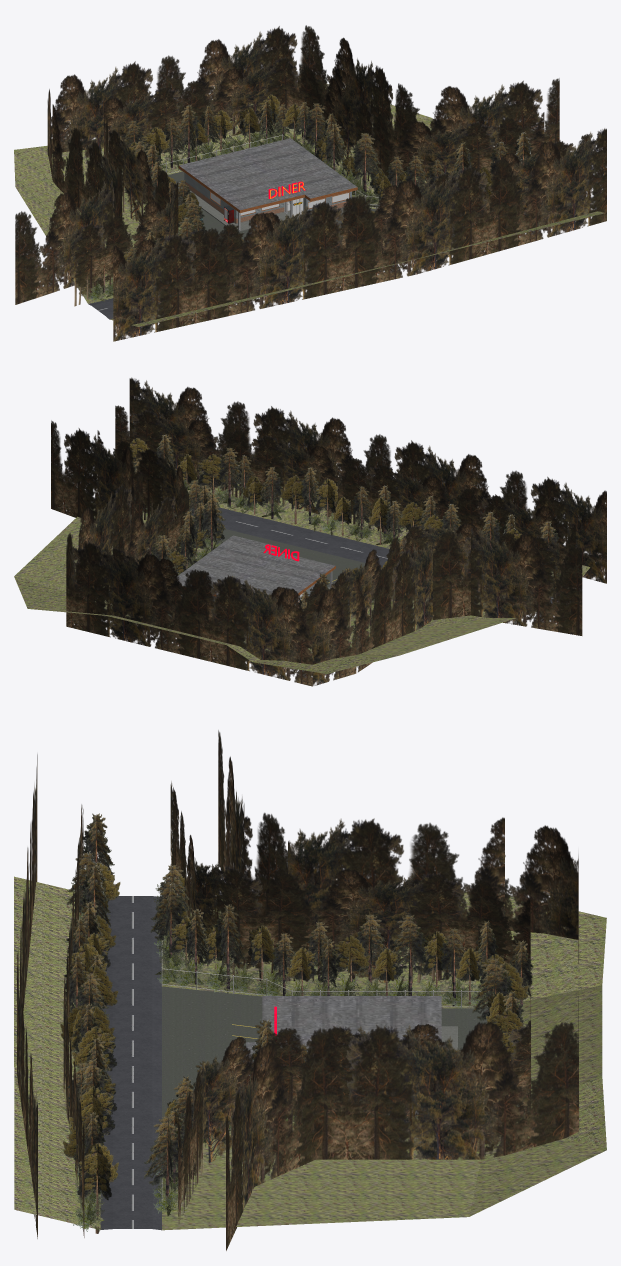
The model's file is Diner.glb.
3 renders of one model, top to bottom at view 1: azimuth 30°, elevation 25°; view 2: azimuth 150°, elevation 25°; view 3: azimuth 270°, elevation 25°, orthographic. The views are drawn at different scales.
Parts seen in each view (by area): view 1: Background, Trees.001, DINER, Grass, Bush, Fences, Asphalt, Asphalt_01; view 2: Background, Trees.001, Grass, DINER, Asphalt_02, Bush, Asphalt; view 3: Background, Grass, Trees.001, Asphalt_02, Asphalt, Bush, DINER, Fences.
Boxes of the visible parts, x1,y1,x2,y2 form: Background: [15, 25, 606, 341]; Trees.001: [120, 94, 532, 287]; DINER: [178, 138, 357, 223]; Grass: [14, 83, 605, 326]; Bush: [86, 121, 571, 310]; Fences: [159, 134, 381, 208]; Asphalt: [154, 171, 377, 249]; Asphalt_01: [176, 182, 346, 231]; Background: [51, 377, 606, 686]; Trees.001: [122, 434, 559, 620]; Grass: [14, 457, 590, 673]; DINER: [177, 535, 335, 607]; Asphalt_02: [99, 497, 557, 603]; Bush: [142, 480, 560, 642]; Asphalt: [168, 527, 381, 639]; Background: [17, 730, 578, 1250]; Grass: [14, 876, 606, 1230]; Trees.001: [60, 813, 533, 1233]; Asphalt_02: [100, 896, 161, 1230]; Asphalt: [162, 986, 488, 1138]; Bush: [71, 882, 495, 1231]; DINER: [246, 996, 441, 1078]; Fences: [161, 940, 488, 1201].
Size of what is drawn, in the model's own units: 115 by 21.93 by 73.54.
93 materials, 87 textured.
